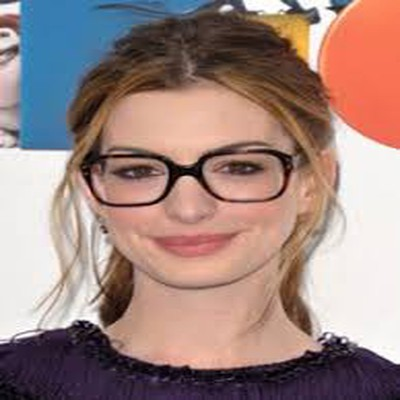eywear: (71, 114, 305, 218)
